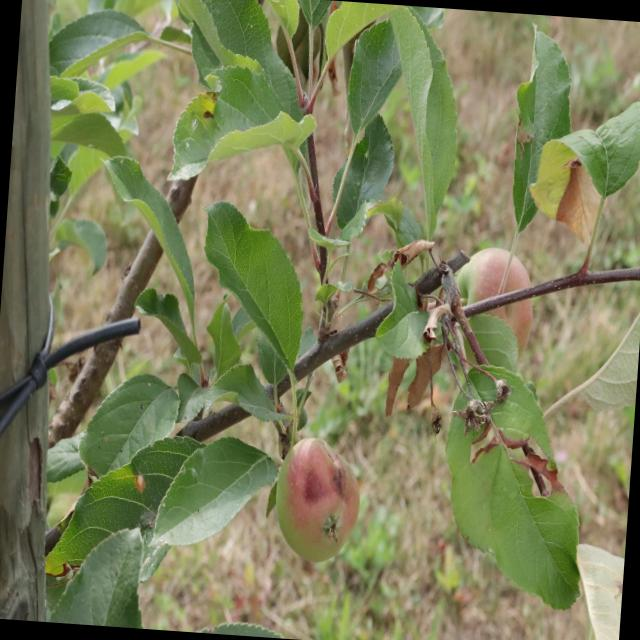-FireBlight-: (365, 238, 563, 499)
